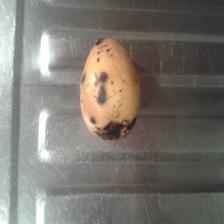Mango Semirotten: (78, 32, 142, 145)
